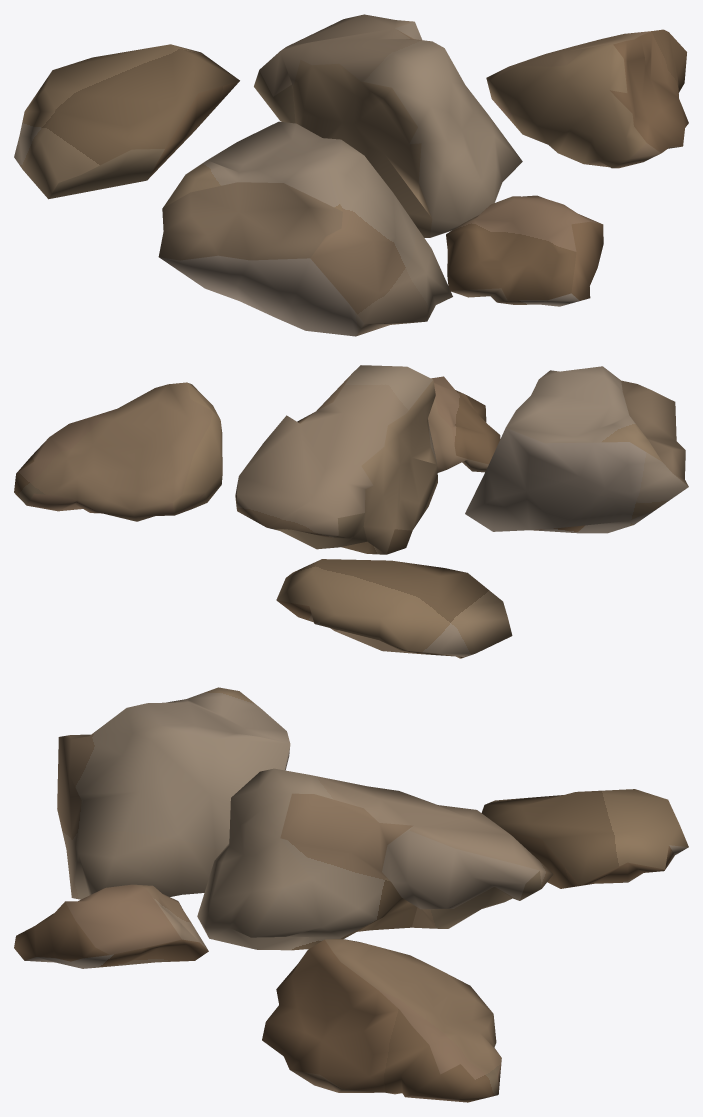
The model's file is ph_stones.glb.
3 views of the same model, one above another, from view 1: azimuth 30°, elevation 25°; view 2: azimuth 150°, elevation 25°; view 3: azimuth 270°, elevation 25° (orthographic). The views are drawn at different scales.
Visible parts, largest first — view 1: ph_stones_lod1; view 2: ph_stones_lod1; view 3: ph_stones_lod1.
Boxes of the visible parts, x1,y1,x2,y2 form: ph_stones_lod1: (14,14,688,336); ph_stones_lod1: (14,365,688,658); ph_stones_lod1: (14,687,688,1102).
Bounding box in the file's own units: 0.3198 × 0.0829 × 0.2859.
Materials: 1 (1 with a texture image).
